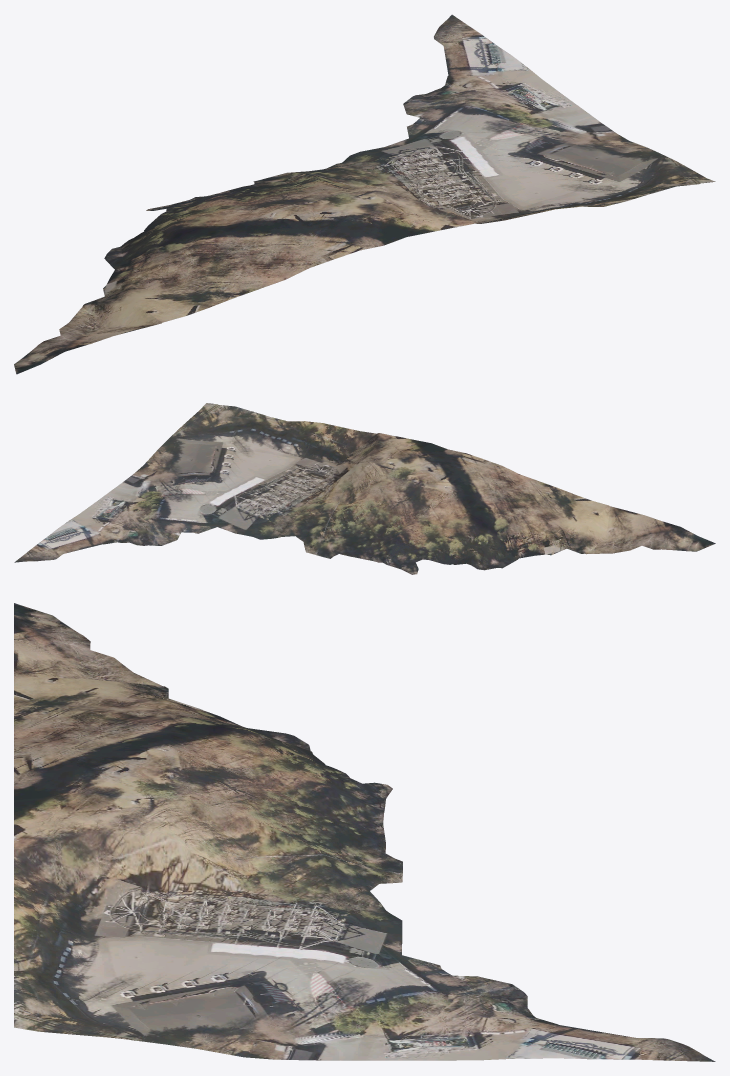
Rendered from CM_Terrain_24486158_6821841.fbx.
3 renders of one model, top to bottom at view 1: azimuth 30°, elevation 25°; view 2: azimuth 150°, elevation 25°; view 3: azimuth 270°, elevation 25°, orthographic. The views are drawn at different scales.
Parts seen in each view (by area): view 1: CM_Terrain_24486158_6821841_LOD0; view 2: CM_Terrain_24486158_6821841_LOD0; view 3: CM_Terrain_24486158_6821841_LOD0.
Boxes of the visible parts, box(x1,y1,x2,y2) form: CM_Terrain_24486158_6821841_LOD0: box(14, 14, 715, 374); CM_Terrain_24486158_6821841_LOD0: box(14, 403, 715, 574); CM_Terrain_24486158_6821841_LOD0: box(14, 603, 715, 1061).
Size of what is drawn, in the model's own units: 205 by 15.55 by 134.
